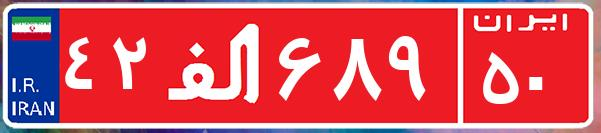0: (525, 38, 570, 115)
2: (110, 28, 158, 105)
4: (57, 26, 110, 107)
5: (475, 38, 525, 113)
6: (273, 28, 330, 110)
8: (330, 28, 385, 110)
9: (385, 28, 445, 110)
الف: (158, 15, 273, 115)
